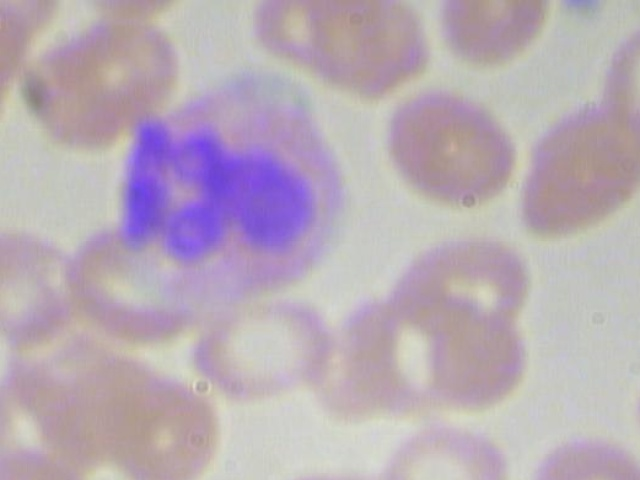RBC: (11, 10, 186, 157), (503, 91, 640, 245), (372, 87, 527, 219), (188, 285, 338, 407), (0, 215, 91, 350), (366, 413, 513, 480), (578, 12, 640, 129), (521, 425, 640, 480), (0, 445, 88, 480)
WBC: (112, 66, 365, 308)
